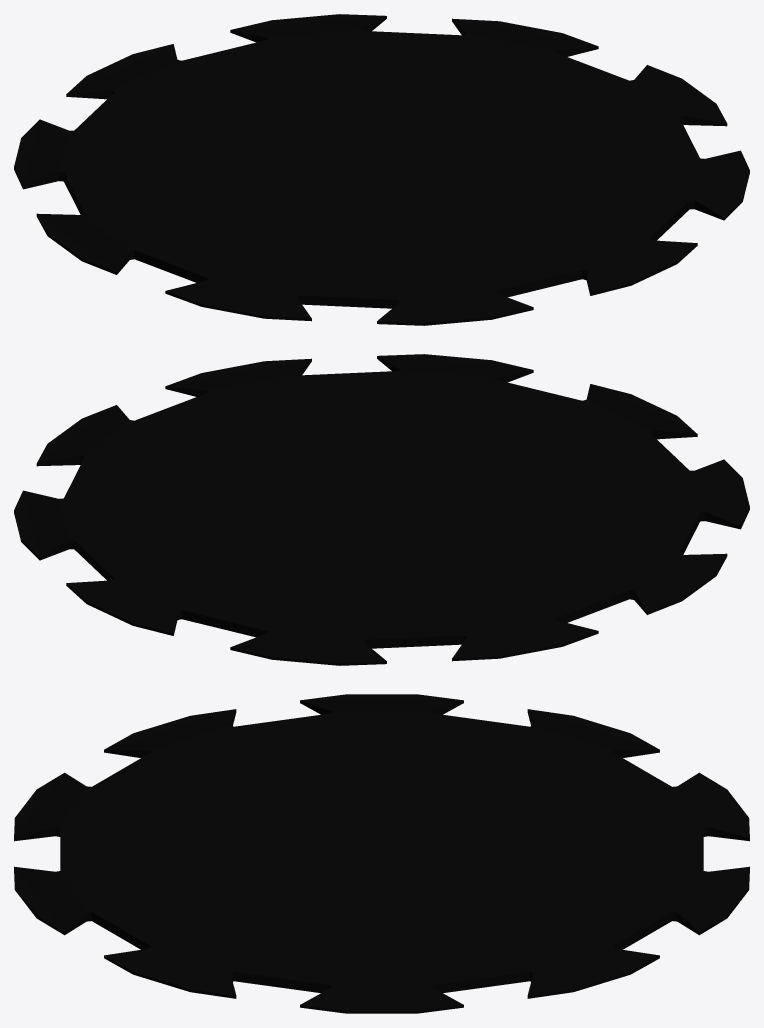
The model's file is NaveCierra.obj.
The picture shows the model from 3 angles, top to bottom: view 1: azimuth 30°, elevation 25°; view 2: azimuth 150°, elevation 25°; view 3: azimuth 270°, elevation 25°; orthographic projection. The views are drawn at different scales.
Parts seen in each view (by area): view 1: Circle; view 2: Circle; view 3: Circle.
Boxes of the visible parts, x1=… form: Circle: x1=14, y1=14, x2=749, y2=325; Circle: x1=14, y1=354, x2=749, y2=665; Circle: x1=14, y1=694, x2=749, y2=1013.
Size of the model in its own units: 2.3 by 0.0315 by 2.26.
